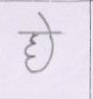e_matra: (37, 12, 56, 31)
